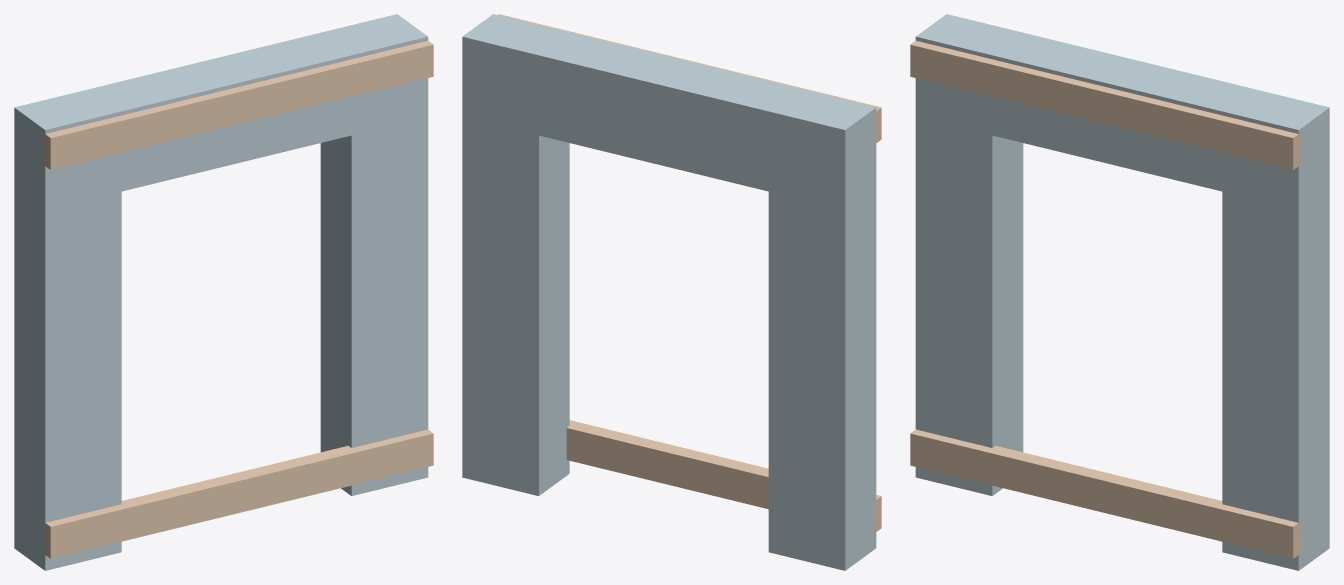
File: wall-metal-door.glb
3 renders of one model, left to right at view 1: azimuth 30°, elevation 25°; view 2: azimuth 150°, elevation 25°; view 3: azimuth 330°, elevation 25°, orthographic.
Visible parts, largest first — view 1: left_jamb, right_jamb, lintel, trim, top_trim; view 2: left_jamb, right_jamb, lintel, trim, top_trim; view 3: right_jamb, left_jamb, lintel, trim, top_trim.
Part boxes in pixels (x1=…): left_jamb: x1=14, y1=89, x2=121, y2=570; right_jamb: x1=320, y1=14, x2=428, y2=495; lintel: x1=91, y1=32, x2=351, y2=191; trim: x1=45, y1=429, x2=433, y2=558; top_trim: x1=42, y1=41, x2=433, y2=169; left_jamb: x1=768, y1=89, x2=876, y2=570; right_jamb: x1=462, y1=14, x2=569, y2=495; lintel: x1=539, y1=33, x2=799, y2=191; trim: x1=566, y1=420, x2=881, y2=534; top_trim: x1=498, y1=14, x2=881, y2=145; right_jamb: x1=1222, y1=89, x2=1329, y2=570; left_jamb: x1=915, y1=14, x2=1023, y2=495; lintel: x1=992, y1=32, x2=1252, y2=191; trim: x1=910, y1=429, x2=1301, y2=558; top_trim: x1=910, y1=41, x2=1301, y2=169.
Bounding box in the file's own units: 1 × 1.1 × 0.165.
